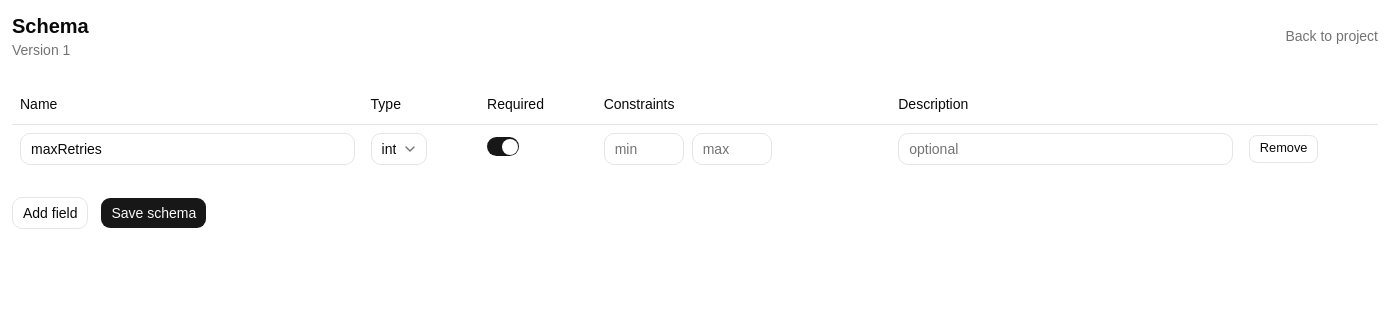
Test case: SchemaBuilderPage › shows a 409 change-safety alert naming the offending environment
Expected: the field showing "maxRetries" is shown, x1=20 y1=132 x2=355 y2=164
Click the button "Save schema": (154, 212) x1=100 y1=196 x2=207 y2=228
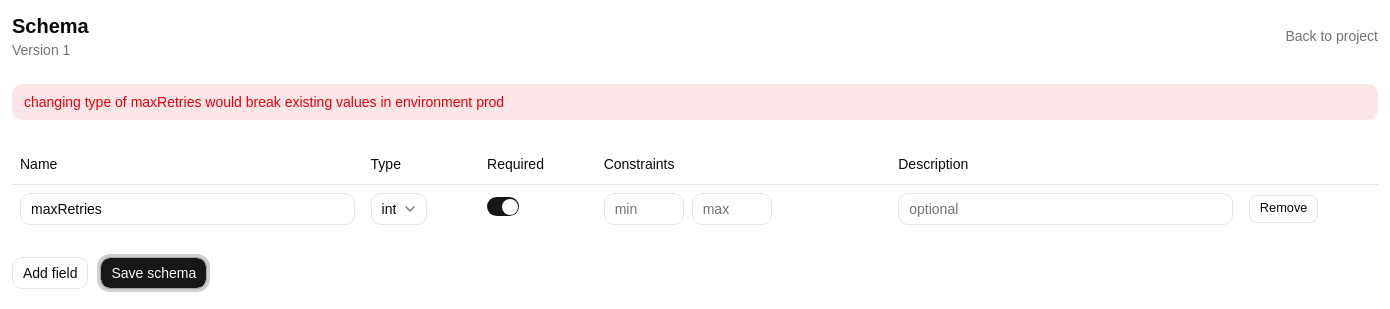
Now the message shows "environment prod", box x1=24 y1=94 x2=504 y2=110
